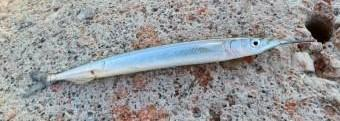fish: (22, 37, 317, 98)
